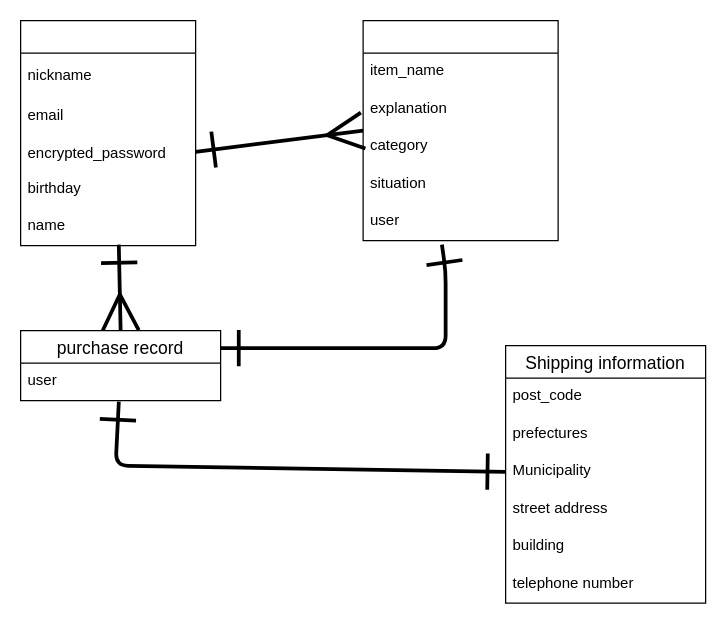
Image size: 726x624. Some labels were removed from this diagram. Here are the shapes that lost their labels. From the top down, the box of each, then its label:
(19, 19, 196, 246): users
(362, 19, 558, 241): items
